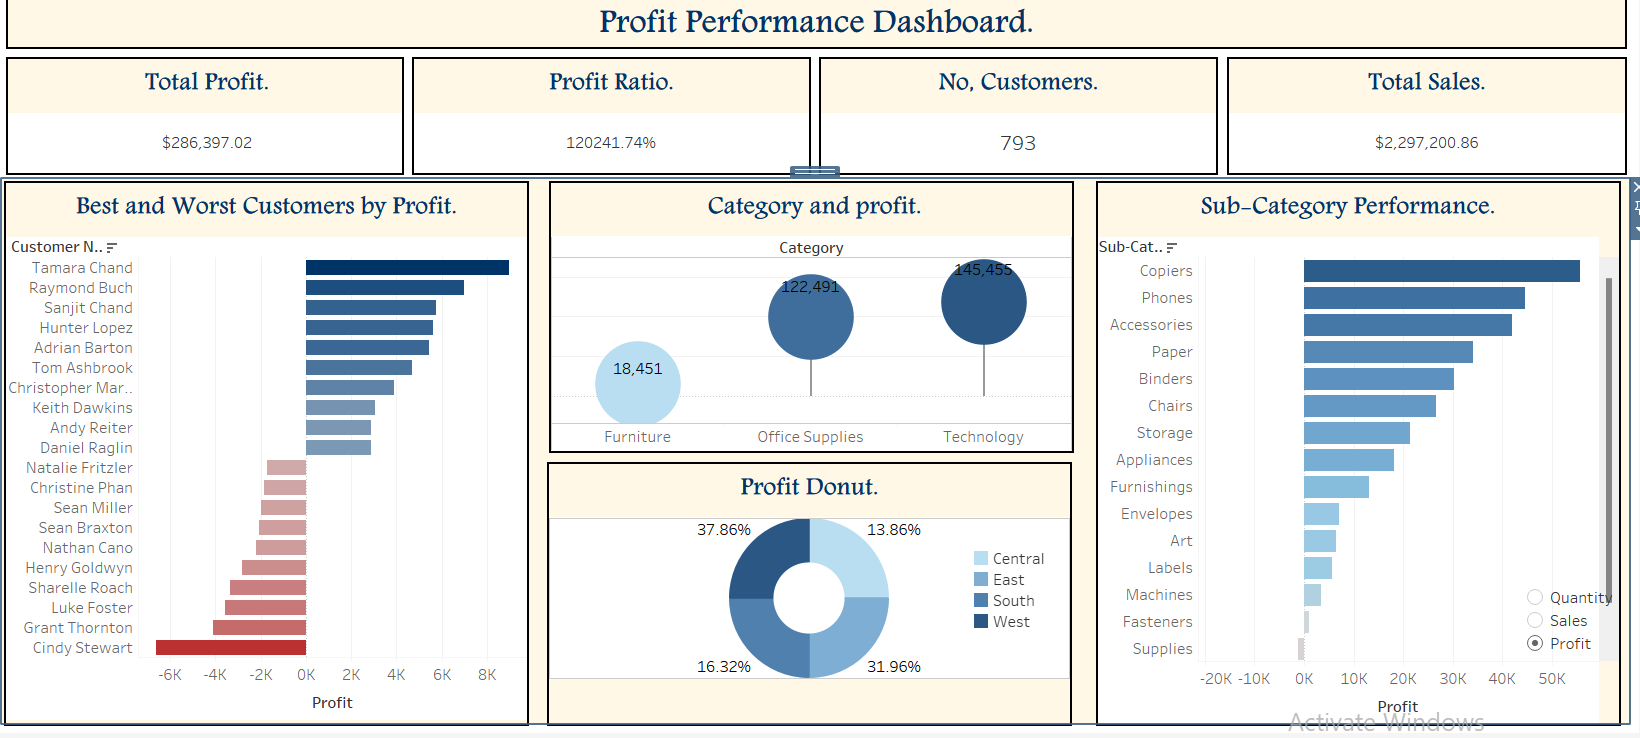

The dashboard page shown, as its layout file describes it:
{"tool":"tableau","page":{"name":"Profit Performance Dashboard.","canvas":[1000,1000],"units":"permille","ordinal":1},"visuals":[{"type":"title","box":[4.9,10.7,990.3,79]},{"type":"worksheet","title":"Total Profit Card.","mark":"Automatic","box":[4.9,89.7,246.8,168.1]},{"type":"worksheet","title":"Profit Ratio Card.","mark":"Automatic","box":[251.7,89.7,247.5,168.1]},{"type":"worksheet","title":" Count of Customer Number Card","mark":"Automatic","box":[499.2,89.7,247.7,168.1]},{"type":"worksheet","title":"Total Sales Card.","mark":"Automatic","box":[746.8,89.7,248.3,168.1]},{"type":"worksheet","title":"Top and Bottom N Customers by Profit.","mark":"Automatic","rows":["Customer Name"],"cols":["Profit"],"box":[6.1,261,319.2,729.6]},{"type":"worksheet","title":". Lollipop Chart for Category and Sales","mark":"Bar","rows":["Profit","Profit"],"cols":["Category"],"box":[337.4,261,319.2,364.1]},{"type":"worksheet","title":"Sales / Profit / Quantity Comparison","mark":"Automatic","rows":["Sub-Category"],"cols":["Calculation_997828798938537993"],"box":[669.9,261,319.2,729.6]},{"type":"worksheet","title":"Profit Donut","mark":"Pie","cols":["Calculation_997828798918733829","Calculation_997828798918733829"],"box":[336.2,637.2,319.2,353.4]},{"type":"legend","title":"Profit Donut","param":"[federated.1w1xjec0fi3a851aw2eri0jm1713].[none:Region:nk]","box":[593.9,752.3,85.1,121.8]}]}

Visuals, with their boxes on the dashboard's canvas, which has no fixed pixel size, in thousandths of its width and height (x1, y1, x2, y2). These are canvas units, not pixel positions in the 1640x738 screenshot, which may show the page scaled, cropped or inside an application window:
title: detection(5, 11, 995, 90)
"Total Profit Card." worksheet: detection(5, 90, 252, 258)
"Profit Ratio Card." worksheet: detection(252, 90, 499, 258)
" Count of Customer Number Card" worksheet: detection(499, 90, 747, 258)
"Total Sales Card." worksheet: detection(747, 90, 995, 258)
"Top and Bottom N Customers by Profit." worksheet: detection(6, 261, 325, 991)
". Lollipop Chart for Category and Sales" worksheet (Bar marks): detection(337, 261, 657, 625)
"Sales / Profit / Quantity Comparison" worksheet: detection(670, 261, 989, 991)
"Profit Donut" worksheet (Pie marks): detection(336, 637, 655, 991)
"Profit Donut" legend: detection(594, 752, 679, 874)
